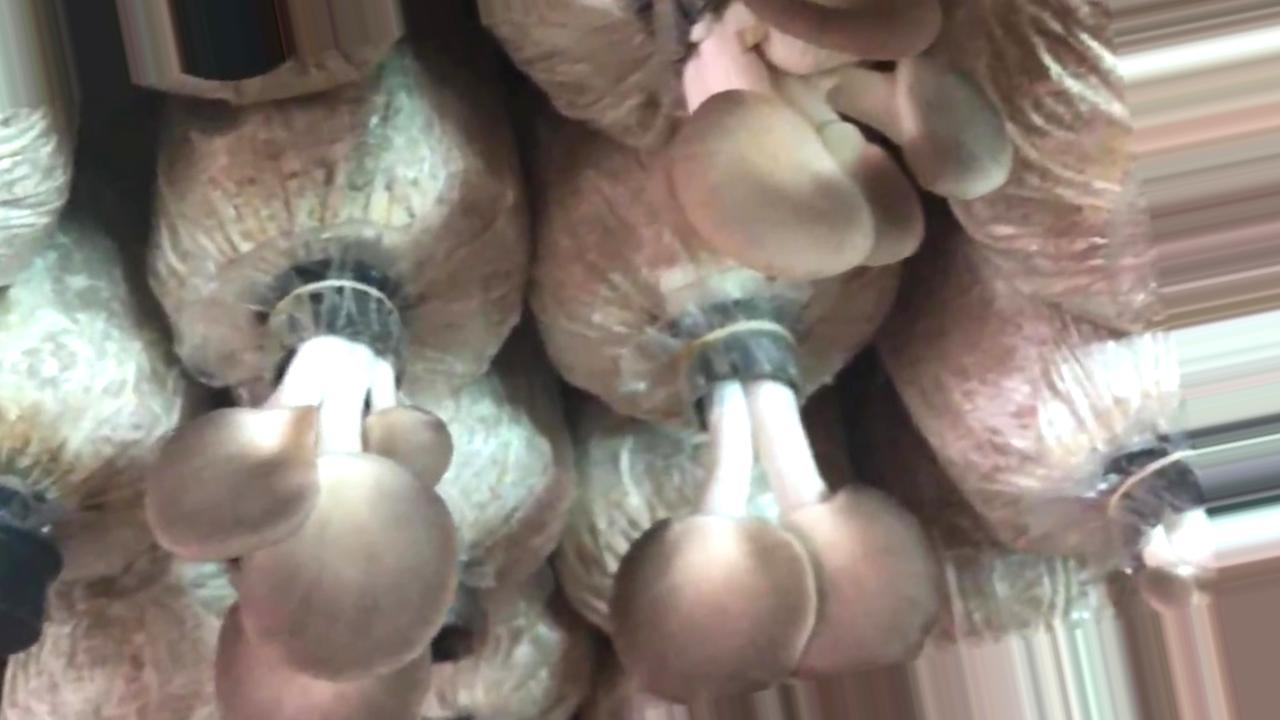nam: (148, 287, 455, 720), (613, 331, 936, 705), (675, 1, 1011, 280), (1121, 463, 1211, 613)
